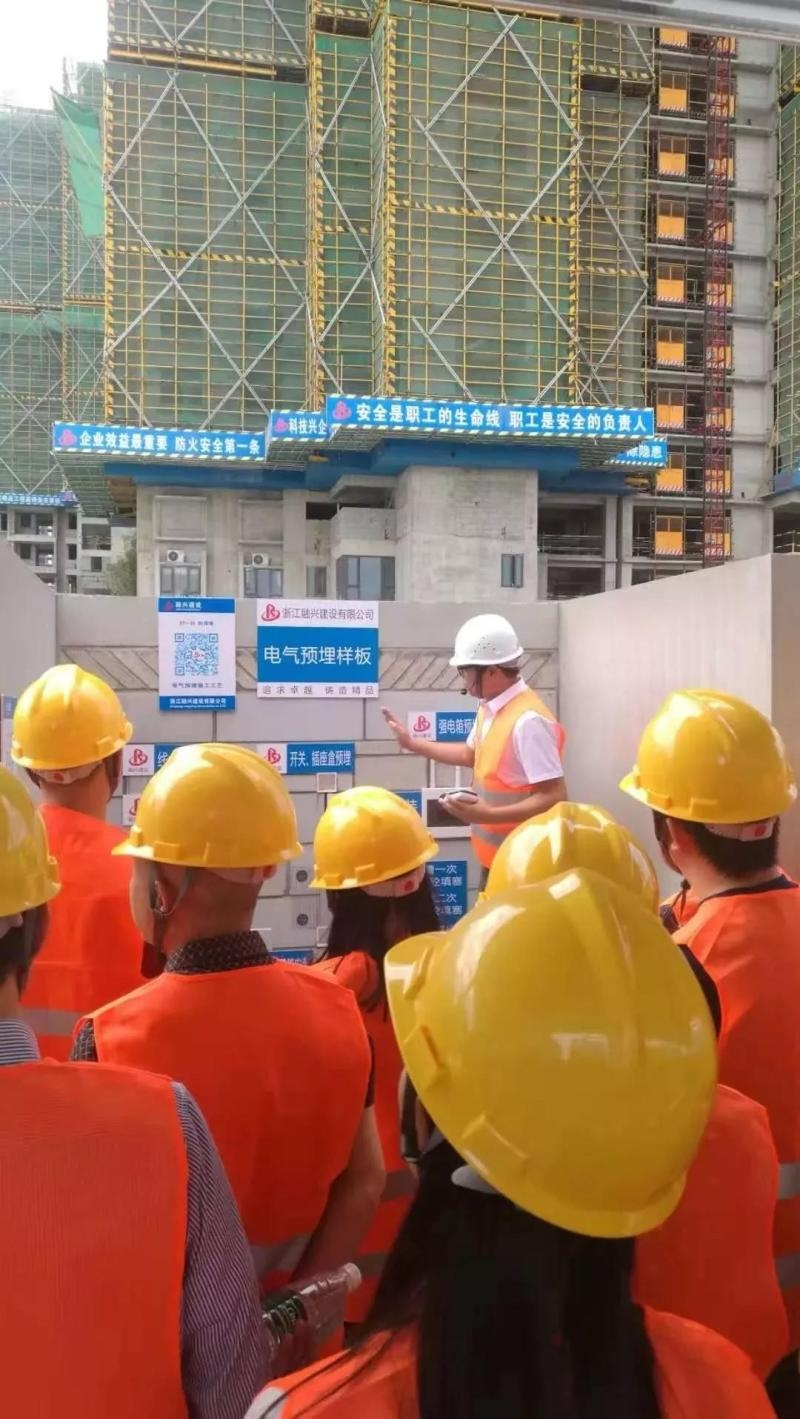white: (443, 609, 526, 696)
yellow: (395, 874, 720, 1281), (120, 728, 292, 934), (627, 686, 798, 880), (307, 765, 433, 920), (1, 756, 70, 1017), (9, 665, 132, 809)
